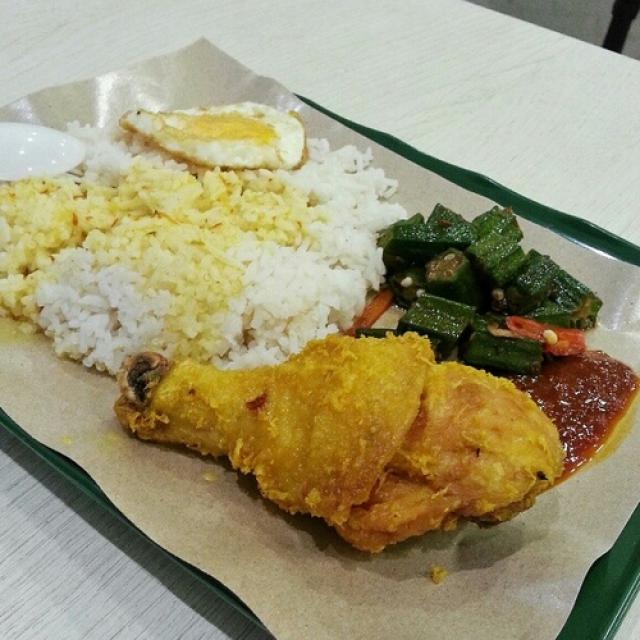米饭主食: (26, 52, 630, 621)
